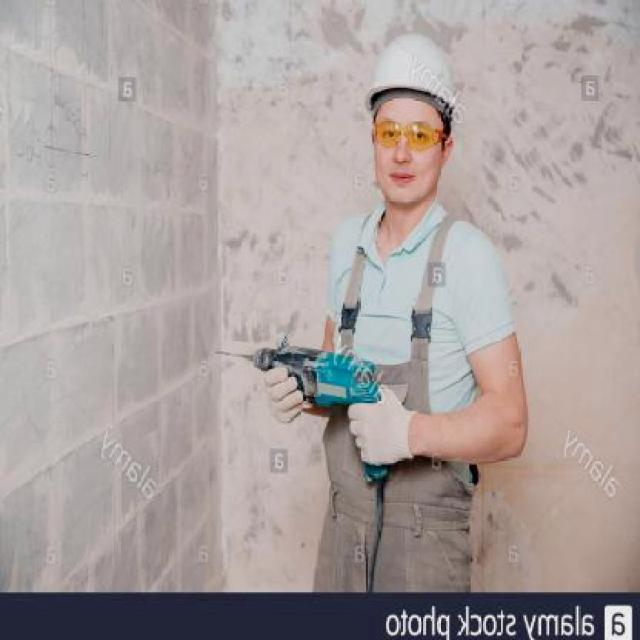face_nomask: (372, 121, 437, 190)
glasses: (373, 116, 453, 159)
hand_glove: (343, 384, 425, 470), (260, 362, 312, 427)
head_helmet: (362, 30, 467, 116)
person: (252, 29, 525, 596)
